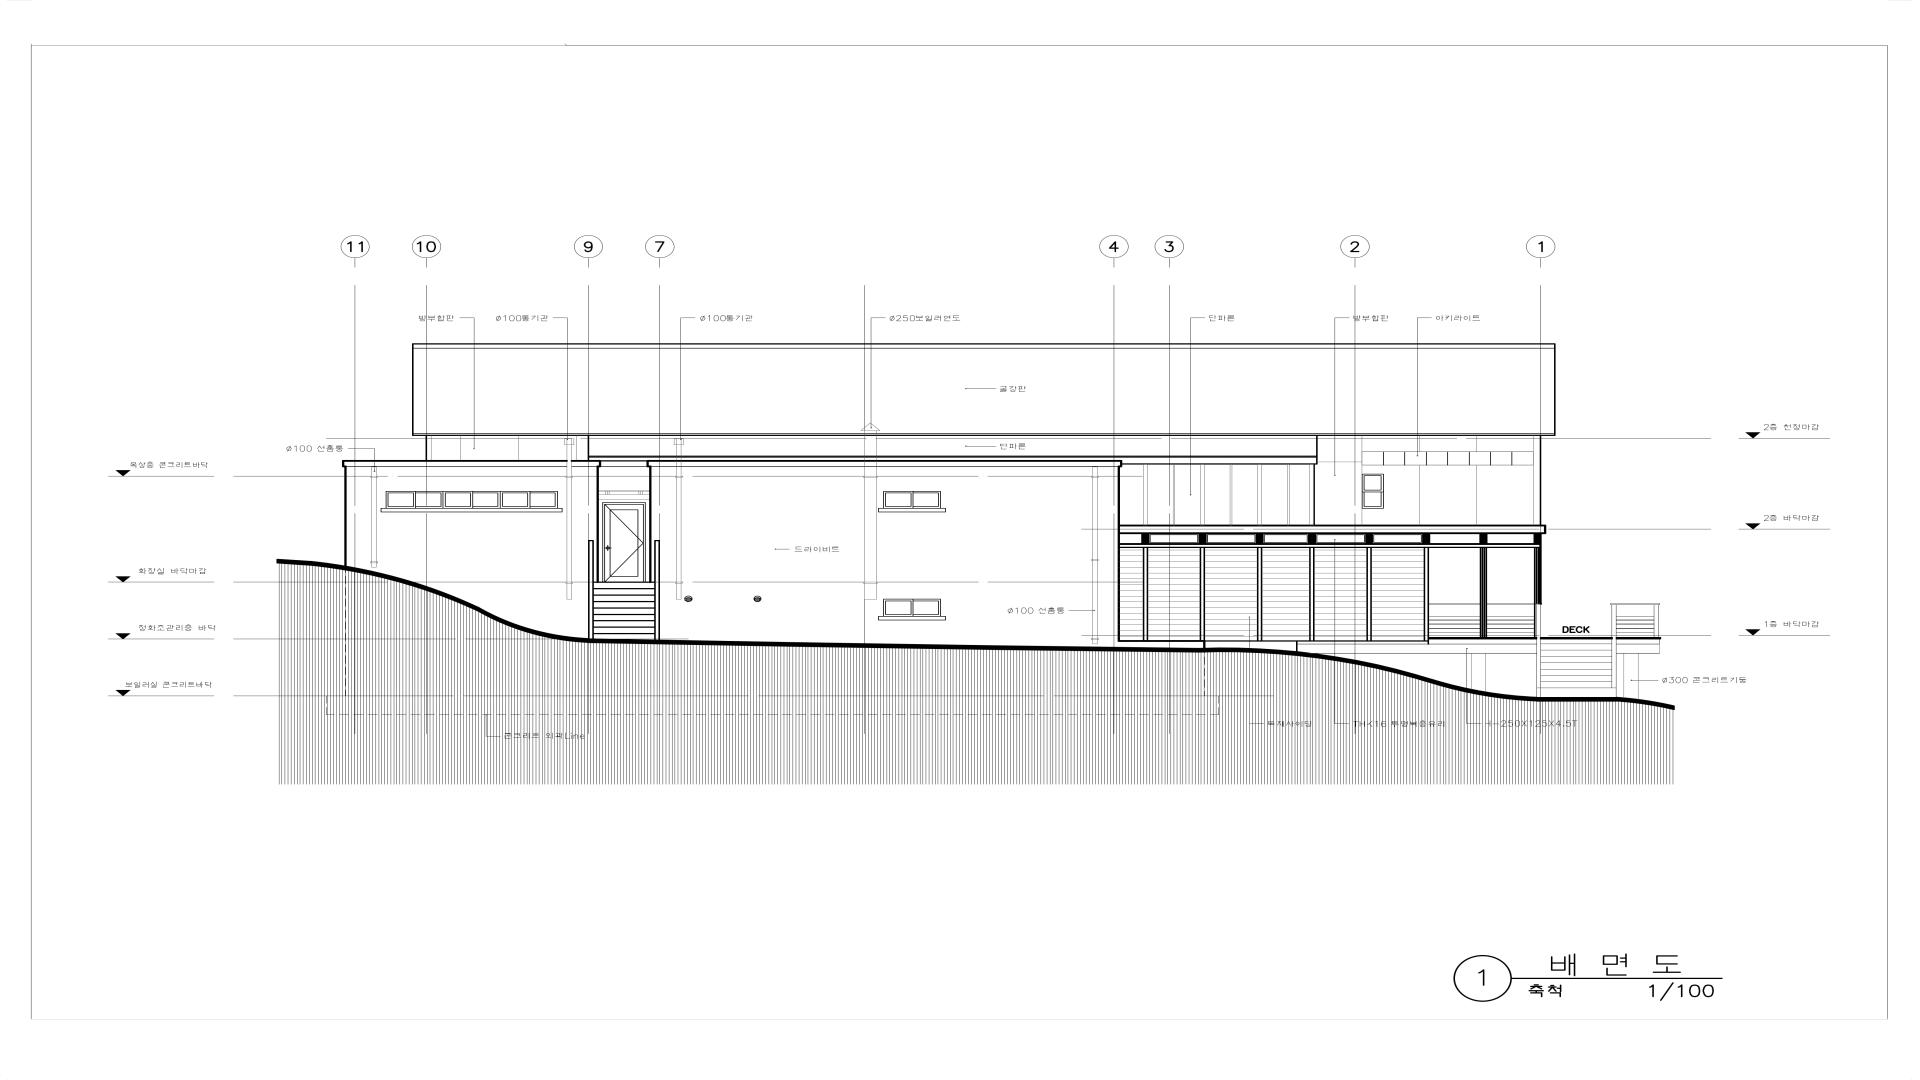door: (602, 502, 646, 582)
wall: (342, 343, 1661, 703)
window: (500, 491, 558, 509), (386, 491, 443, 509), (443, 491, 500, 509), (883, 491, 941, 508), (883, 599, 941, 616), (1362, 474, 1384, 508), (1149, 534, 1199, 543), (1207, 534, 1256, 543), (1316, 534, 1365, 543), (1373, 534, 1422, 543), (1430, 534, 1479, 543), (1488, 534, 1534, 543), (1263, 534, 1308, 543), (1120, 534, 1141, 543)
